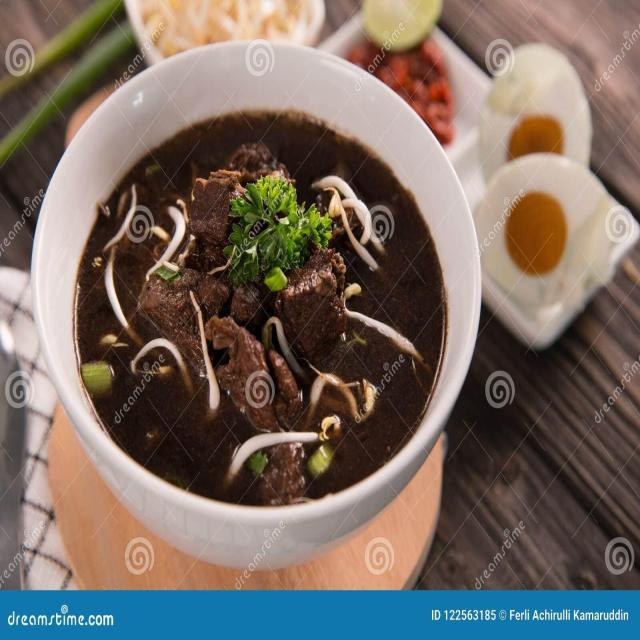Rawon: (81, 102, 437, 470)
